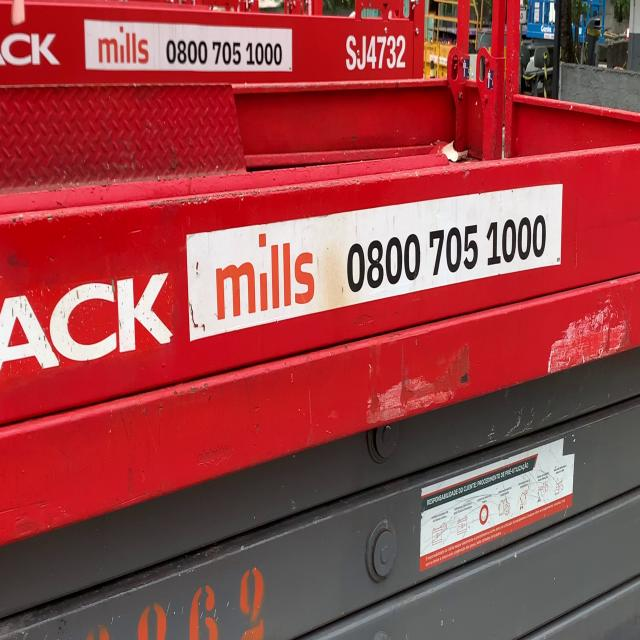Adesivo Longo: (181, 172, 568, 357), (80, 14, 296, 77)
